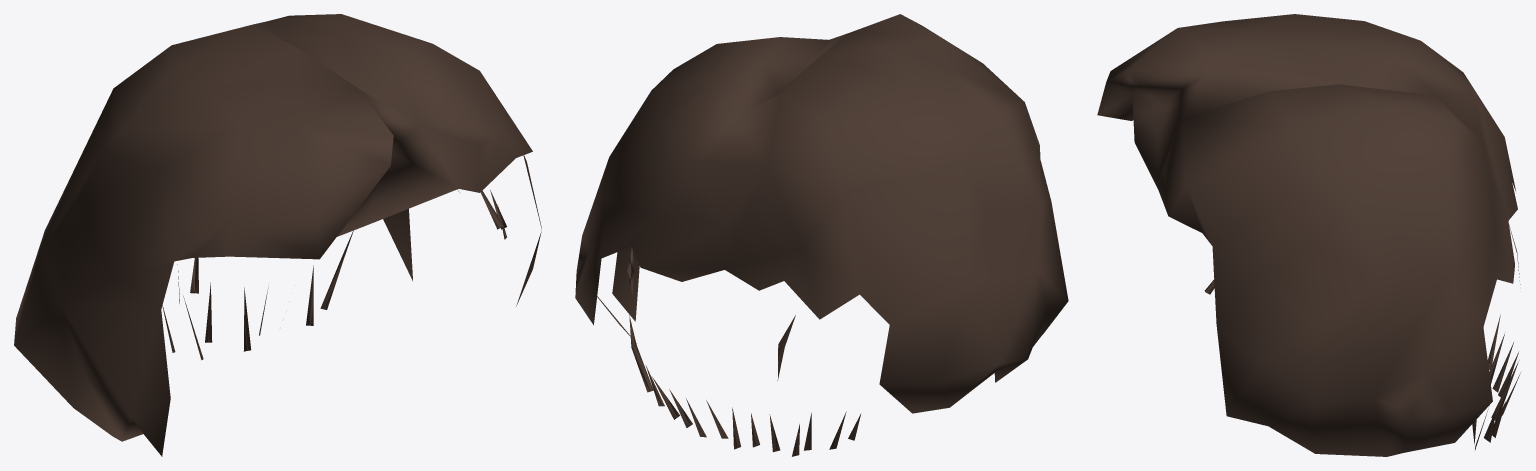
Rendered from bob.glb.
3 views of the same model, side by side, from view 1: azimuth 30°, elevation 25°; view 2: azimuth 150°, elevation 25°; view 3: azimuth 270°, elevation 25° (orthographic). The views are drawn at different scales.
Visible parts, largest first — view 1: Hair, HairPulledRootStrands; view 2: Hair, HairPulledRootStrands; view 3: Hair, HairPulledRootStrands.
Boxes of the visible parts, x1,y1,x2,y2 form: Hair: (14,14,541,456); HairPulledRootStrands: (162,189,506,360); Hair: (575,14,1068,413); HairPulledRootStrands: (627,247,861,456); Hair: (1097,14,1517,456); HairPulledRootStrands: (1204,224,1521,450).
Size of the model in its own units: 0.5651 by 0.42 by 0.4364.
